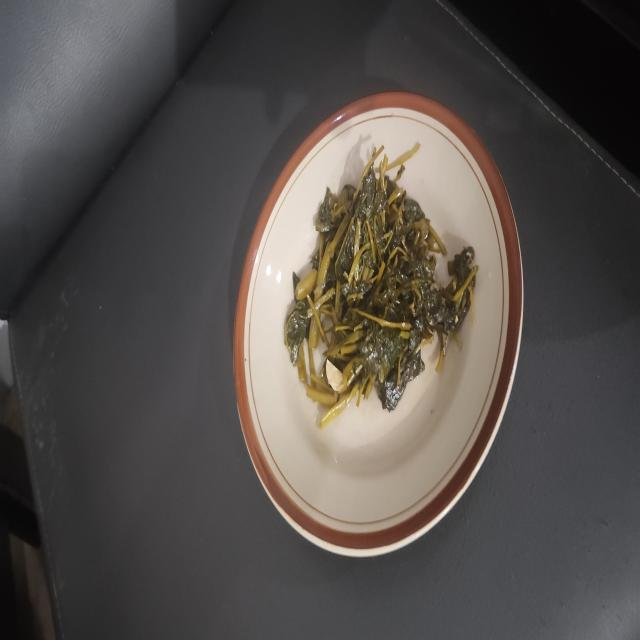tumis_kangkung: (284, 144, 478, 426)
